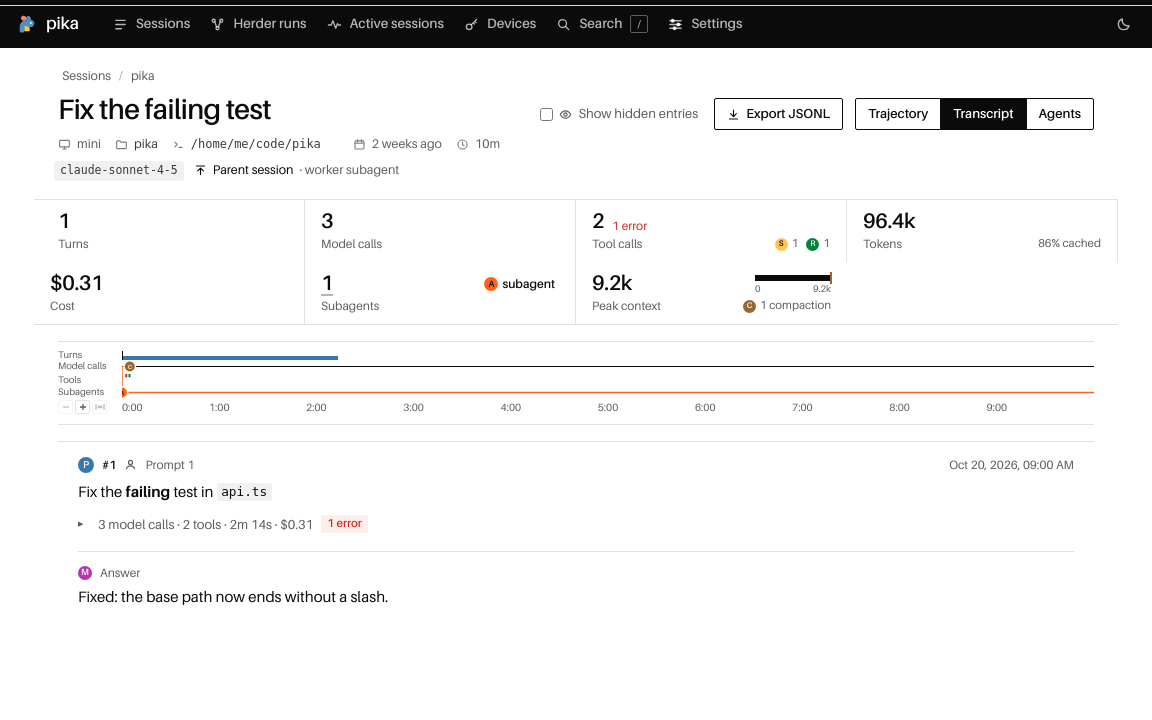
Test case: session view › expands a turn into a timeline loaded from that turn's entries
Click the button "▸ 3 model calls · 2 tools · 2m 14s · $0.31 1 error". click: (206, 524)
box: [70, 513, 1082, 536]
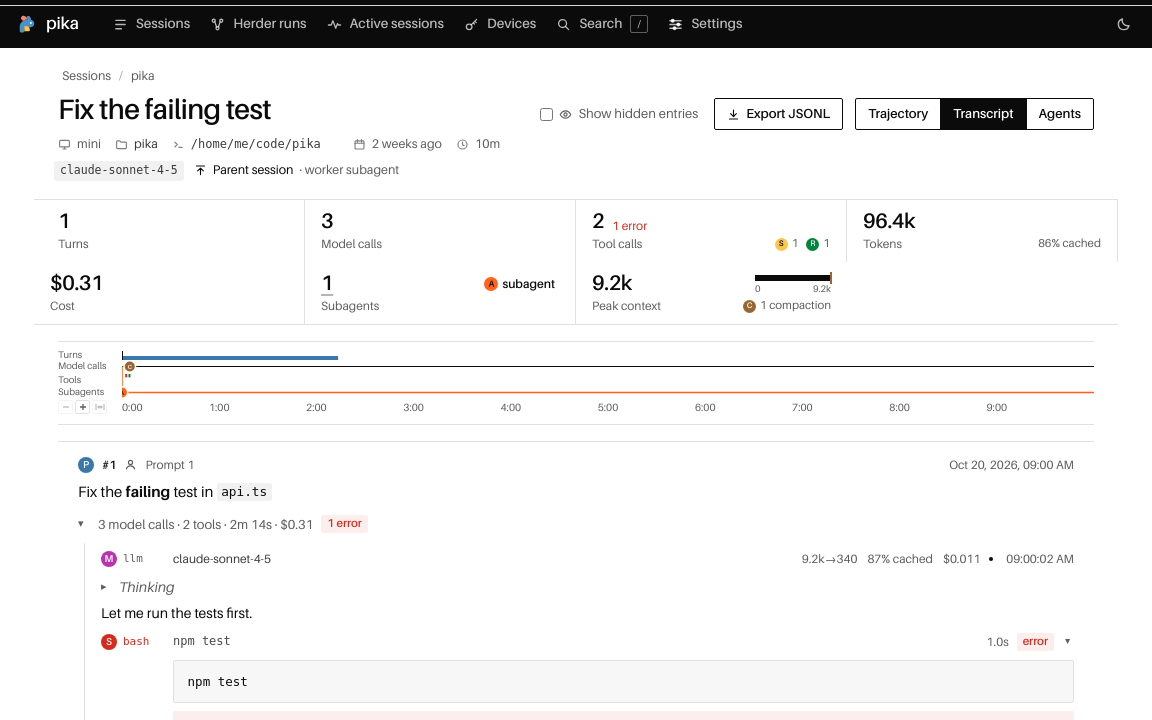
Check: the text "fails because of the base path" is not shown
Check: the text "Let me run the tests first." is shown, box [101, 605, 252, 621]
Click the button "▸ Thinking". click: (138, 587)
box: [97, 577, 179, 598]
(page scrolled)
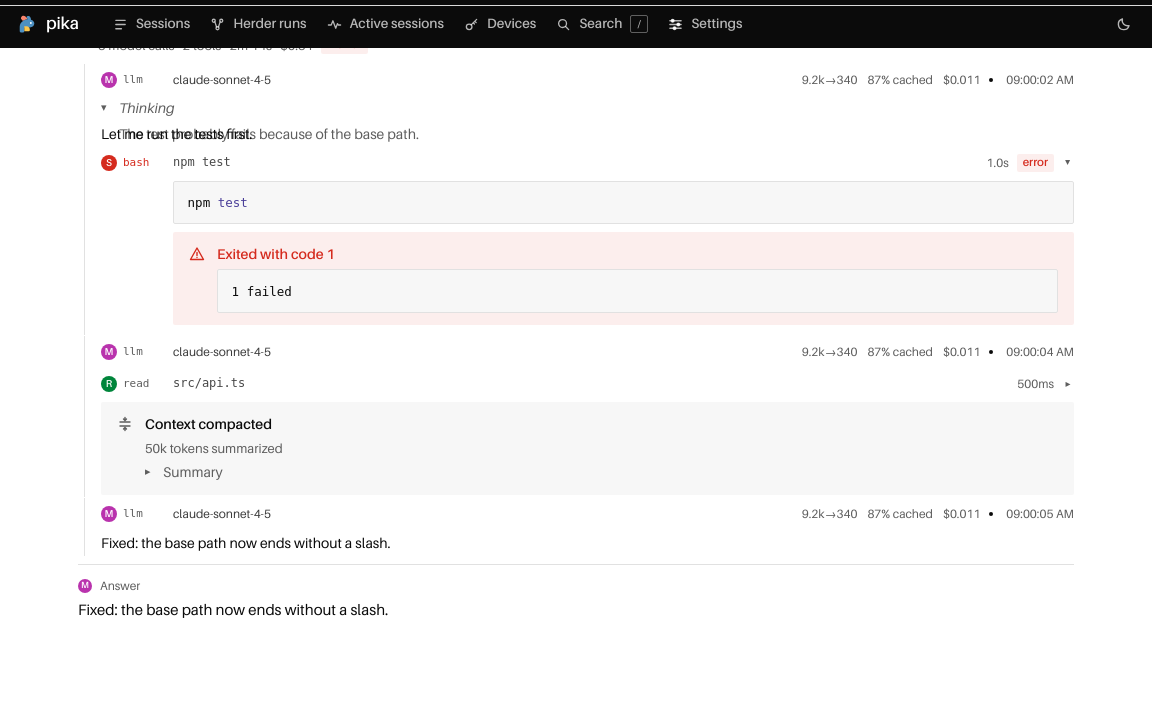
Check: the text "BASH" is shown, box [123, 157, 150, 168]
Check: the text "The test probably fails because of the base path." is shown, box [119, 126, 419, 142]
Check: the message shows "Exited with code 1", box [217, 246, 335, 262]
Click the button "R READ src/api.ts 500ms ▸". click: (209, 383)
box: [95, 370, 1080, 398]
(page scrolled)
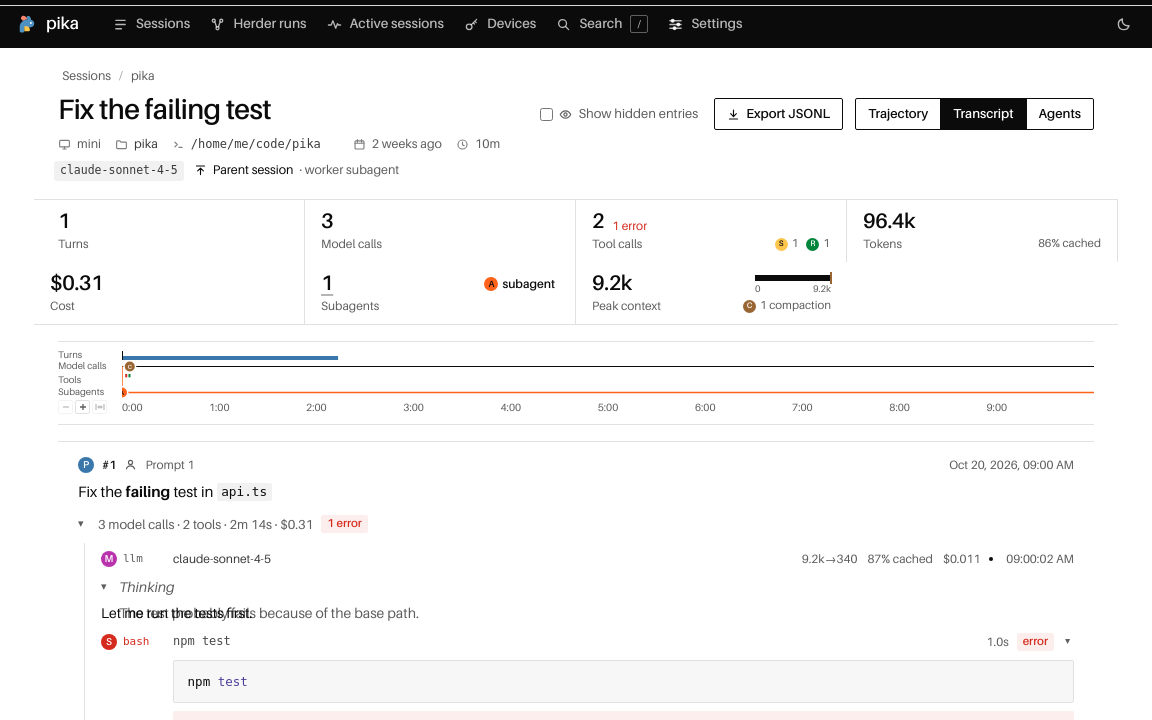
Click the checkbox labelled "Show hidden entries". click: (547, 114)
box: [540, 108, 553, 120]
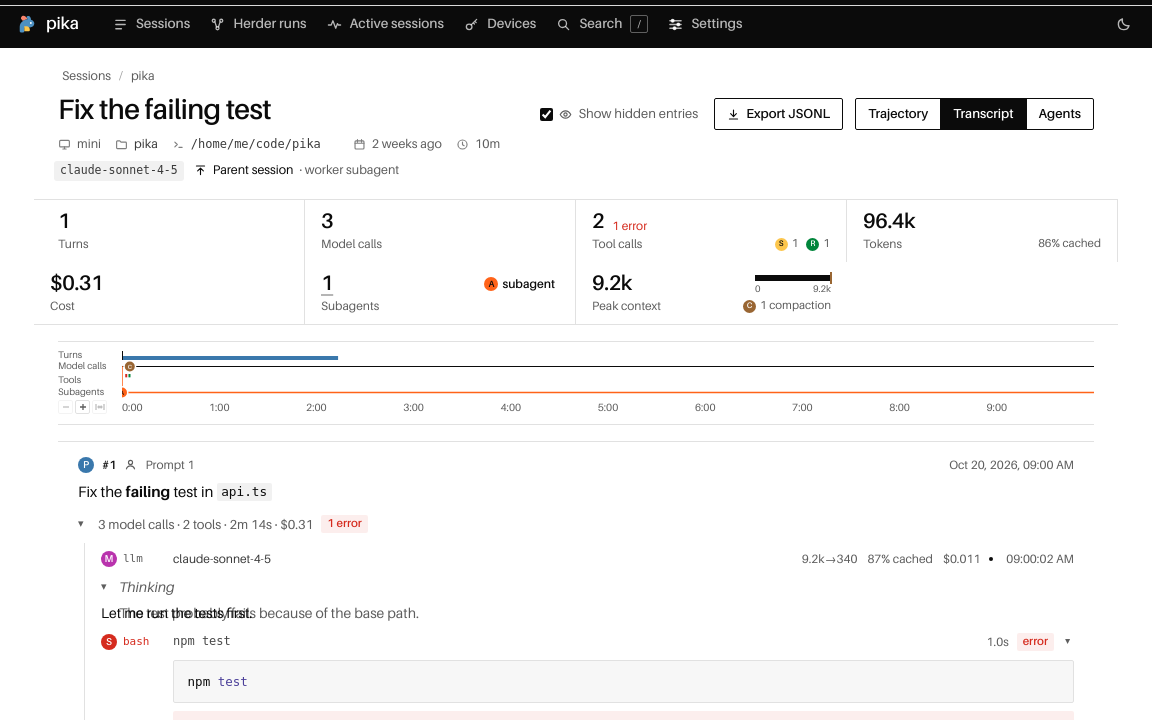
// Collapsing hides the timeline again.
Click the button "▾ 3 model calls · 2 tools · 2m 14s · $0.31 1 error". click: (206, 524)
box: [70, 513, 1082, 536]
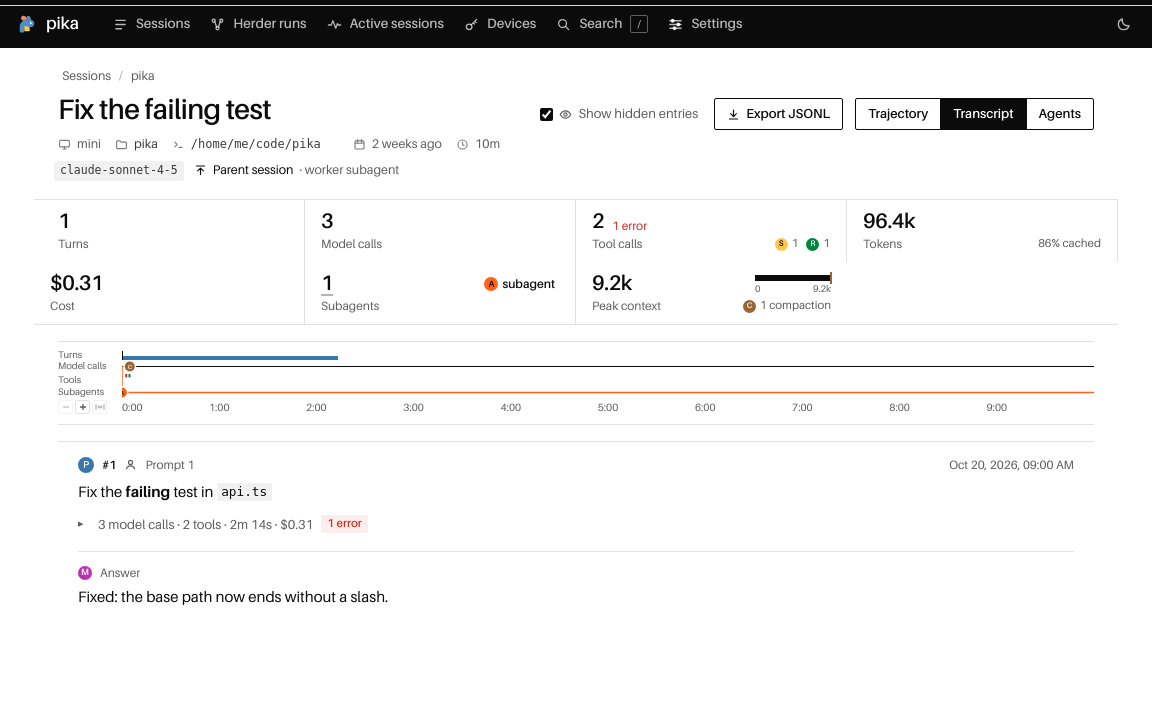
Check: the text "Let me run the tests first." is gone
